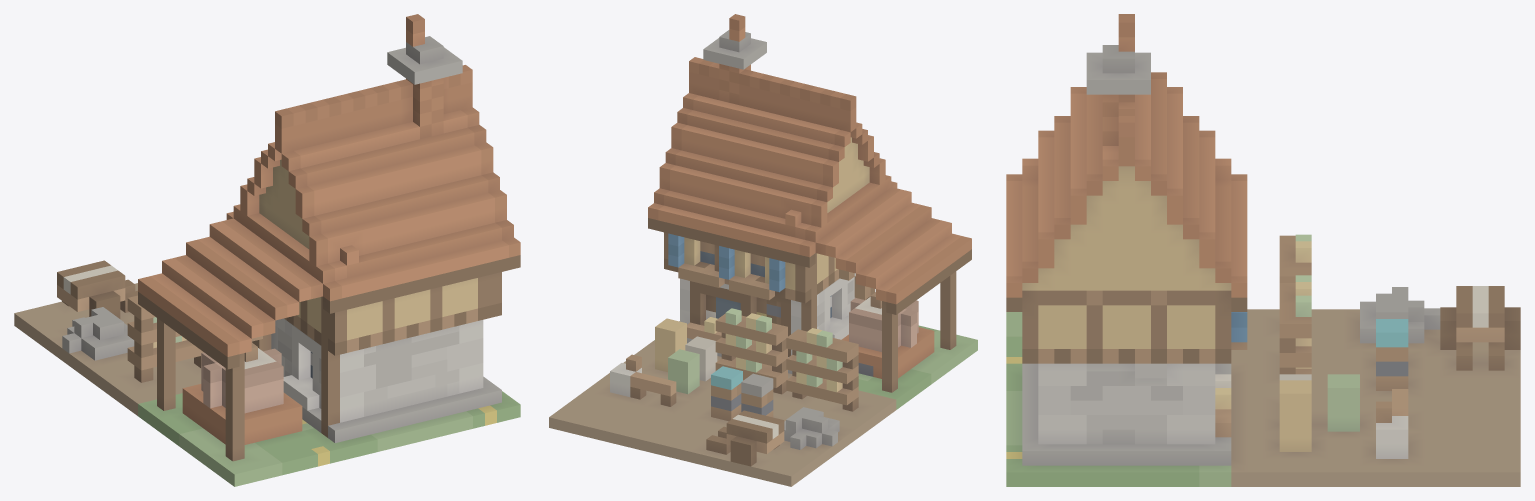
The model's file is soap_maker.glb.
3 views of the same model, side by side, from view 1: azimuth 30°, elevation 25°; view 2: azimuth 150°, elevation 25°; view 3: azimuth 270°, elevation 25° (orthographic). The views are drawn at different scales.
Visible parts, largest first — view 1: soap_maker; view 2: soap_maker; view 3: soap_maker.
Part boxes in pixels (x1,y1,x2,y2): soap_maker: [14, 14, 520, 486]; soap_maker: [549, 14, 977, 486]; soap_maker: [1006, 14, 1520, 486].
Bounding box in the file's own units: 3 × 3.75 × 4.
